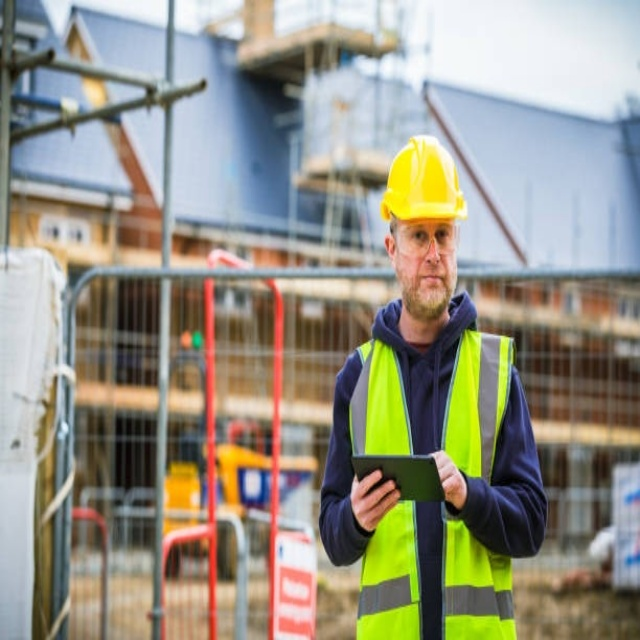Gafas: (393, 216, 462, 256)
Sin_guantes: (349, 466, 401, 532), (429, 450, 466, 513)
Sin_mascara: (415, 262, 449, 303)
